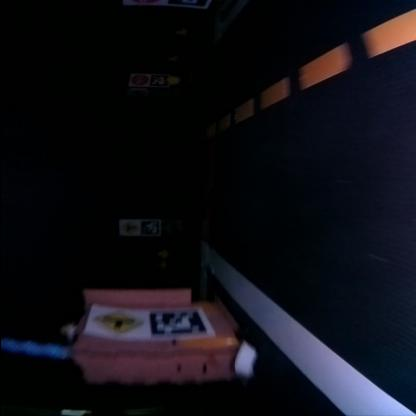Duckie: (166, 76, 178, 83)
Intersection sign: (88, 308, 144, 336), (119, 220, 137, 234)
QR code: (146, 308, 208, 336), (139, 219, 156, 234), (150, 74, 164, 84)
Stop sign: (130, 74, 146, 86)
